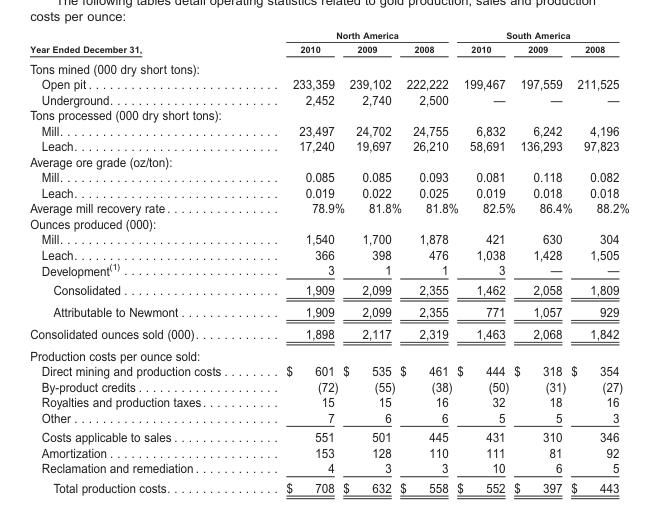table: (29, 29, 628, 494)
table column: (29, 29, 256, 494), (256, 29, 343, 494), (570, 29, 628, 494), (343, 29, 400, 494), (400, 29, 457, 494), (457, 29, 514, 494), (514, 29, 570, 494)
table column header: (29, 29, 628, 57)
table projected row header: (29, 57, 628, 76), (29, 344, 628, 362), (29, 153, 628, 169), (29, 215, 628, 231), (29, 107, 628, 122)
table row: (29, 300, 628, 322), (29, 322, 628, 344), (29, 279, 628, 300), (29, 57, 628, 76), (29, 261, 628, 279), (29, 344, 628, 362), (29, 426, 628, 444), (29, 459, 628, 477), (29, 409, 628, 426), (29, 477, 628, 494), (29, 41, 628, 57), (29, 91, 628, 107), (29, 122, 628, 138), (29, 153, 628, 169), (29, 184, 628, 200), (29, 215, 628, 231), (29, 362, 628, 378), (29, 393, 628, 409), (29, 76, 628, 91), (29, 107, 628, 122), (29, 138, 628, 153), (29, 169, 628, 184), (29, 200, 628, 215), (29, 231, 628, 246), (29, 246, 628, 261), (29, 378, 628, 393), (29, 444, 628, 459), (29, 29, 628, 41)
table spanning cell: (29, 29, 256, 57), (256, 29, 457, 41), (457, 29, 628, 41)
